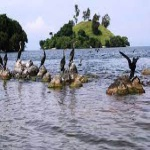Lake: (1, 45, 147, 144)
